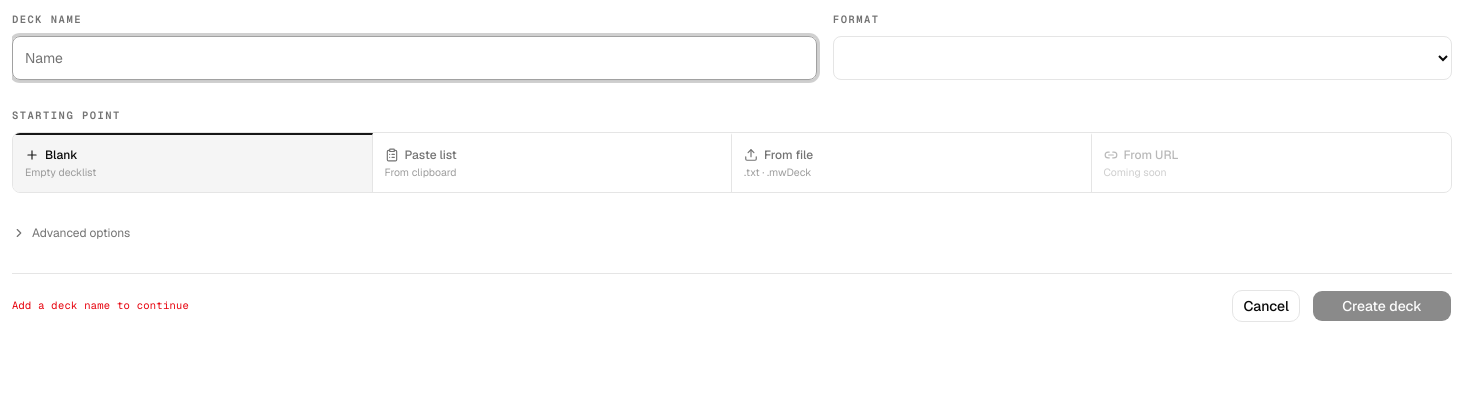
Test case: DeckCreateForm › surfaces a friendly error inline when the server action throws
This screenshot has width=1464, height=403.
Type "Deck" into the field labelled "Deck name" at (414, 58), box x1=12 y1=36 x2=817 y2=80
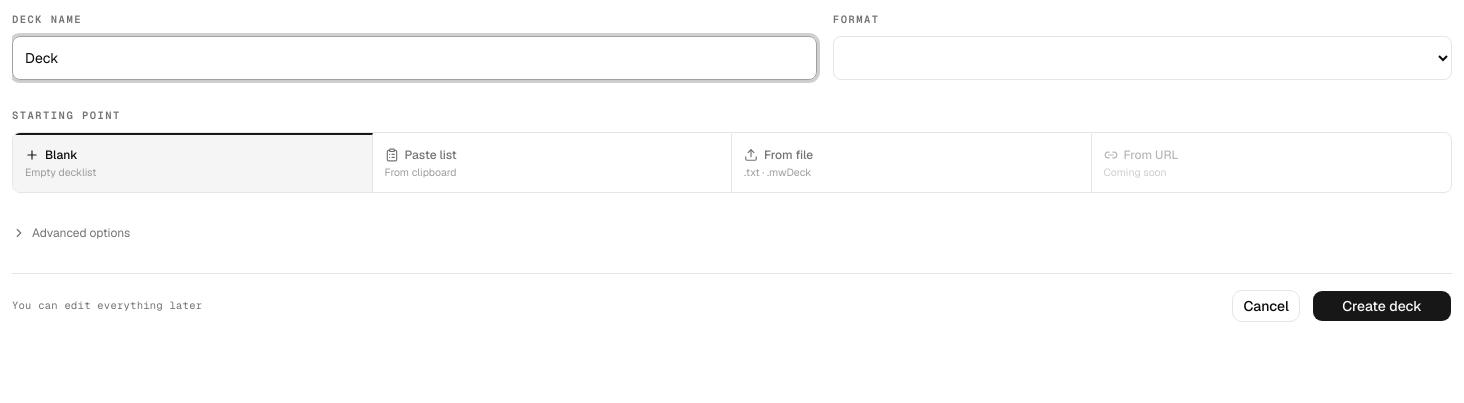
Click the button "Create deck" at (1382, 306), box x1=1312 y1=290 x2=1452 y2=322
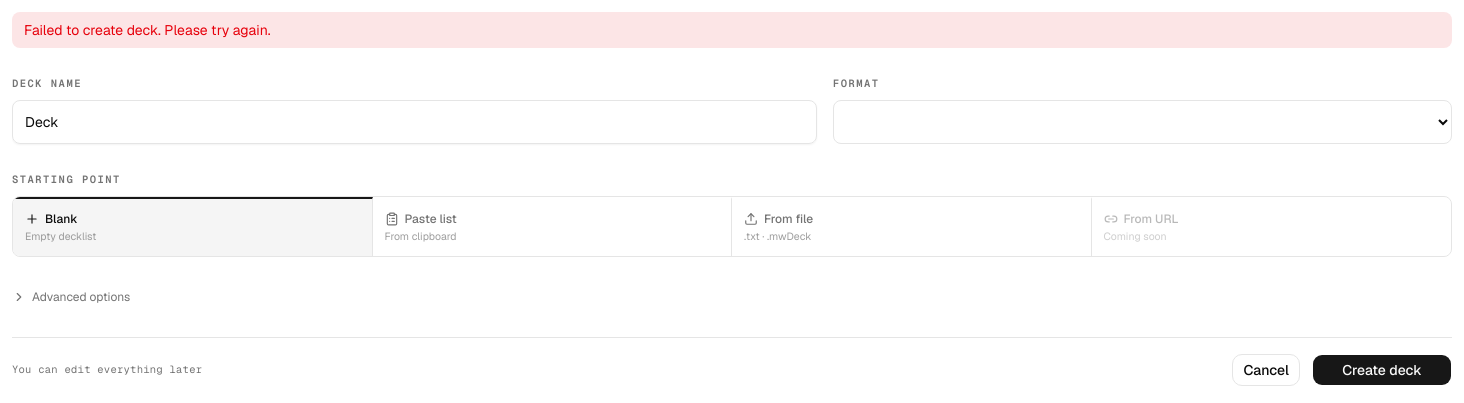
Expected: the text "Failed to create deck. Please try again." is shown, x1=12 y1=12 x2=1452 y2=48
